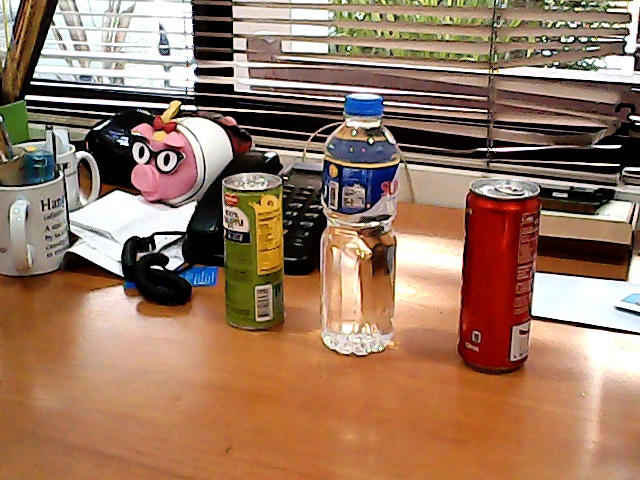Cola: (440, 161, 552, 394)
Pine Juice: (205, 157, 297, 340)
Summit Water: (303, 85, 420, 360)
